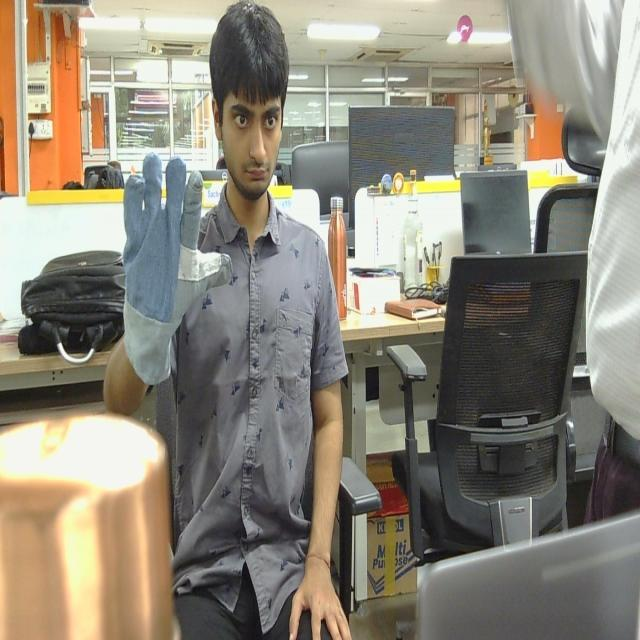Gloves-Detection: (115, 153, 229, 393)
